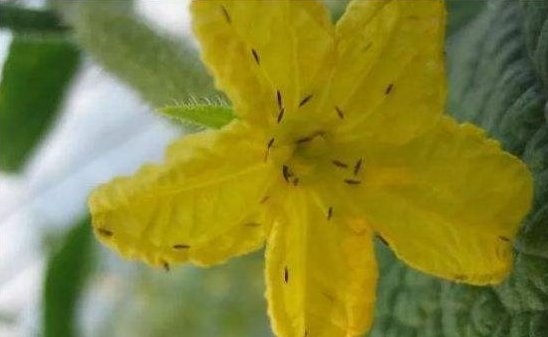thrips: (219, 4, 232, 24), (95, 225, 115, 238), (172, 239, 192, 250), (352, 155, 362, 176), (299, 92, 312, 108), (331, 158, 349, 169), (251, 47, 260, 68), (292, 136, 315, 144), (342, 176, 362, 185), (160, 256, 171, 272), (275, 107, 285, 124), (274, 89, 283, 107), (326, 205, 334, 222), (335, 104, 344, 119), (282, 263, 289, 282), (384, 82, 393, 95), (266, 136, 275, 148)
